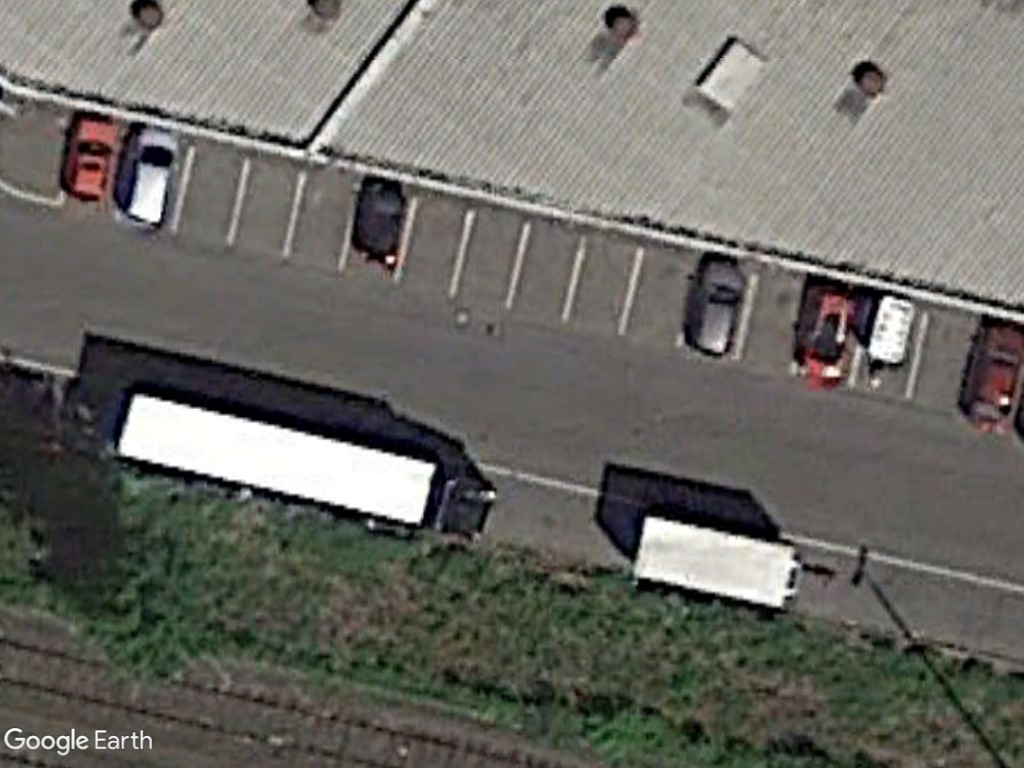car: (118, 124, 180, 230), (686, 258, 746, 364)
longvehicle: (108, 385, 501, 549), (619, 510, 811, 617)
